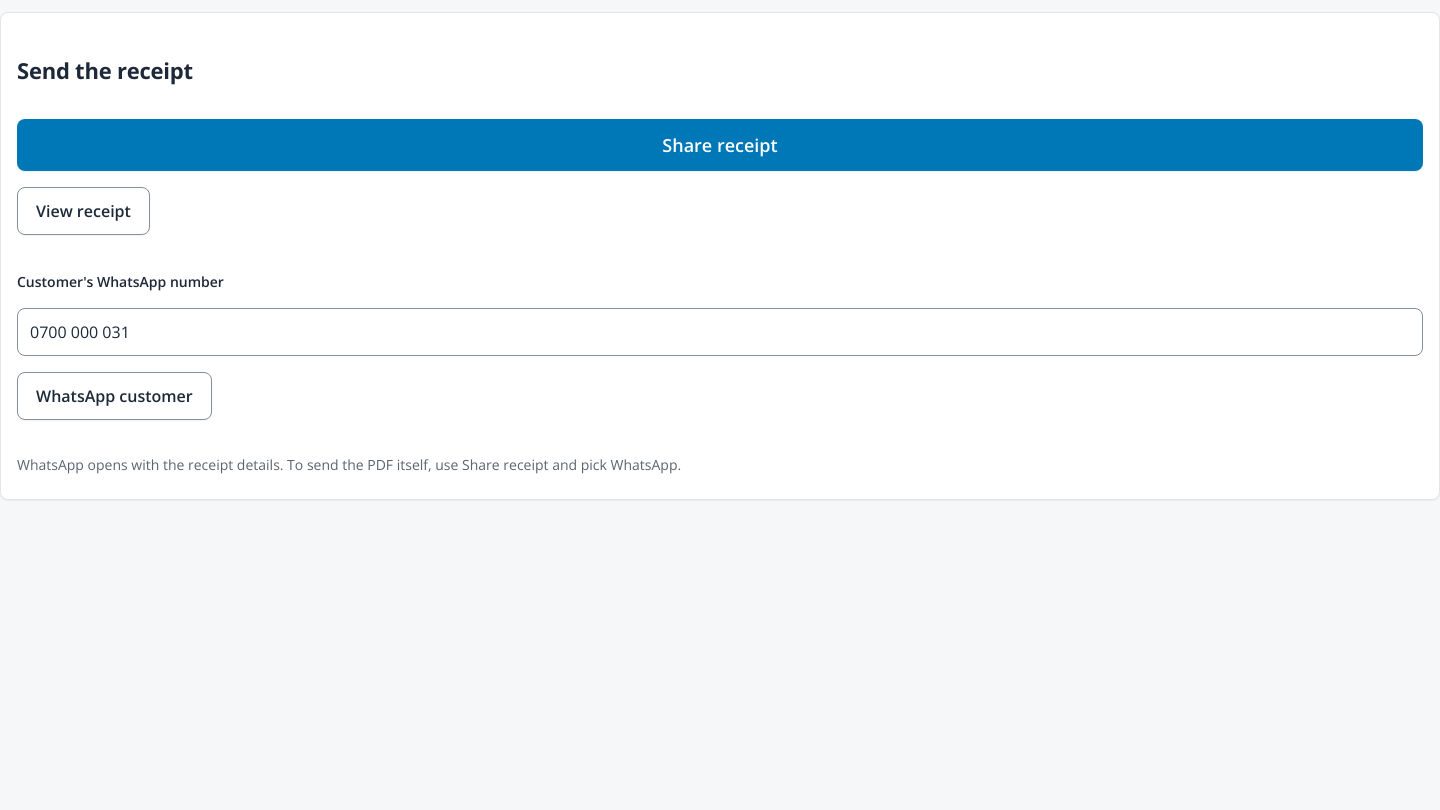
Scenario: Share receipt › downloads the PDF and says so when the browser cannot share files
The width and height of the screenshot is (1440, 810).
Click the button "Share receipt". click: [720, 145]
box: [17,119,1423,171]
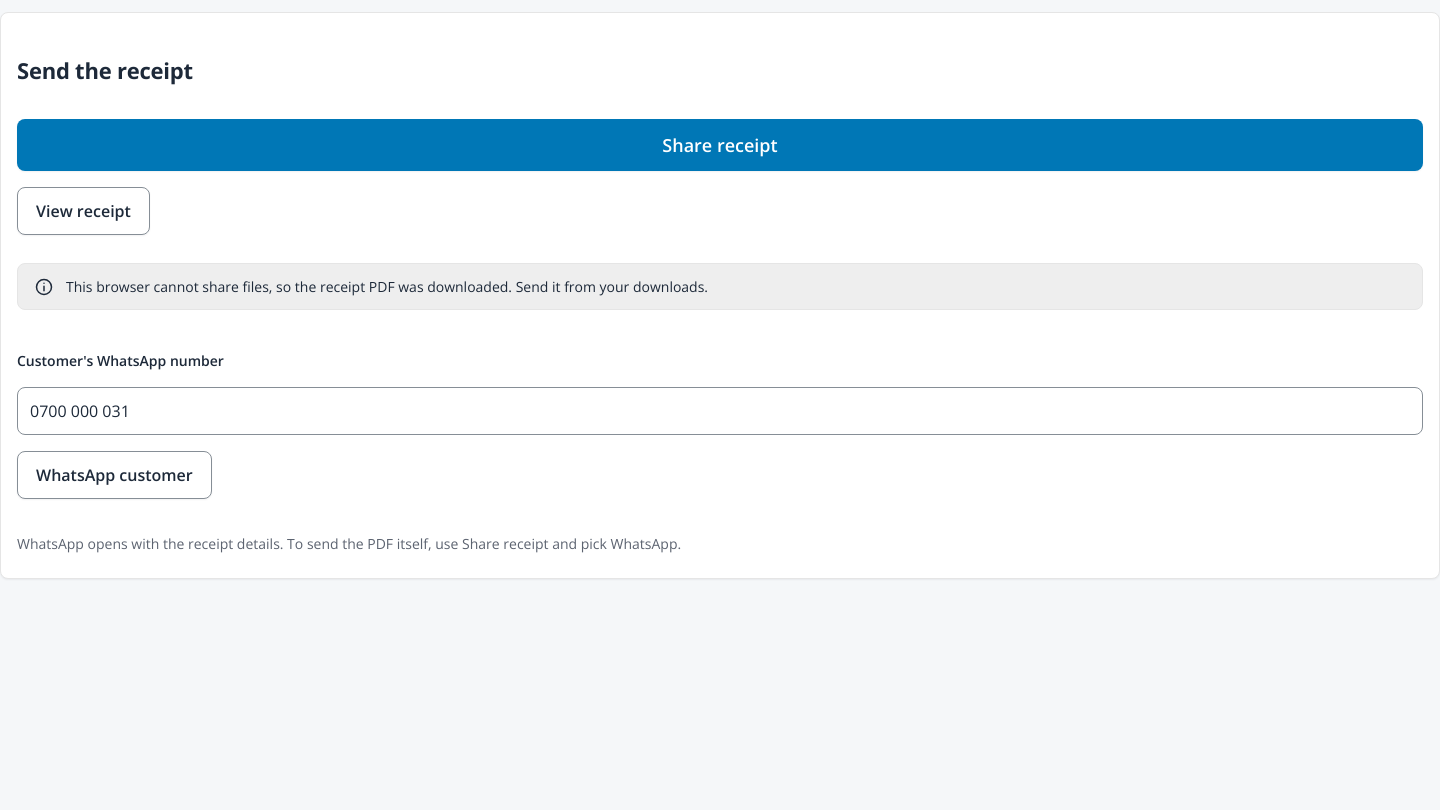
Now the text "This browser cannot share files, so the receipt PDF was downloaded. Send it from your downloads." is shown, box [66,277,708,296]
